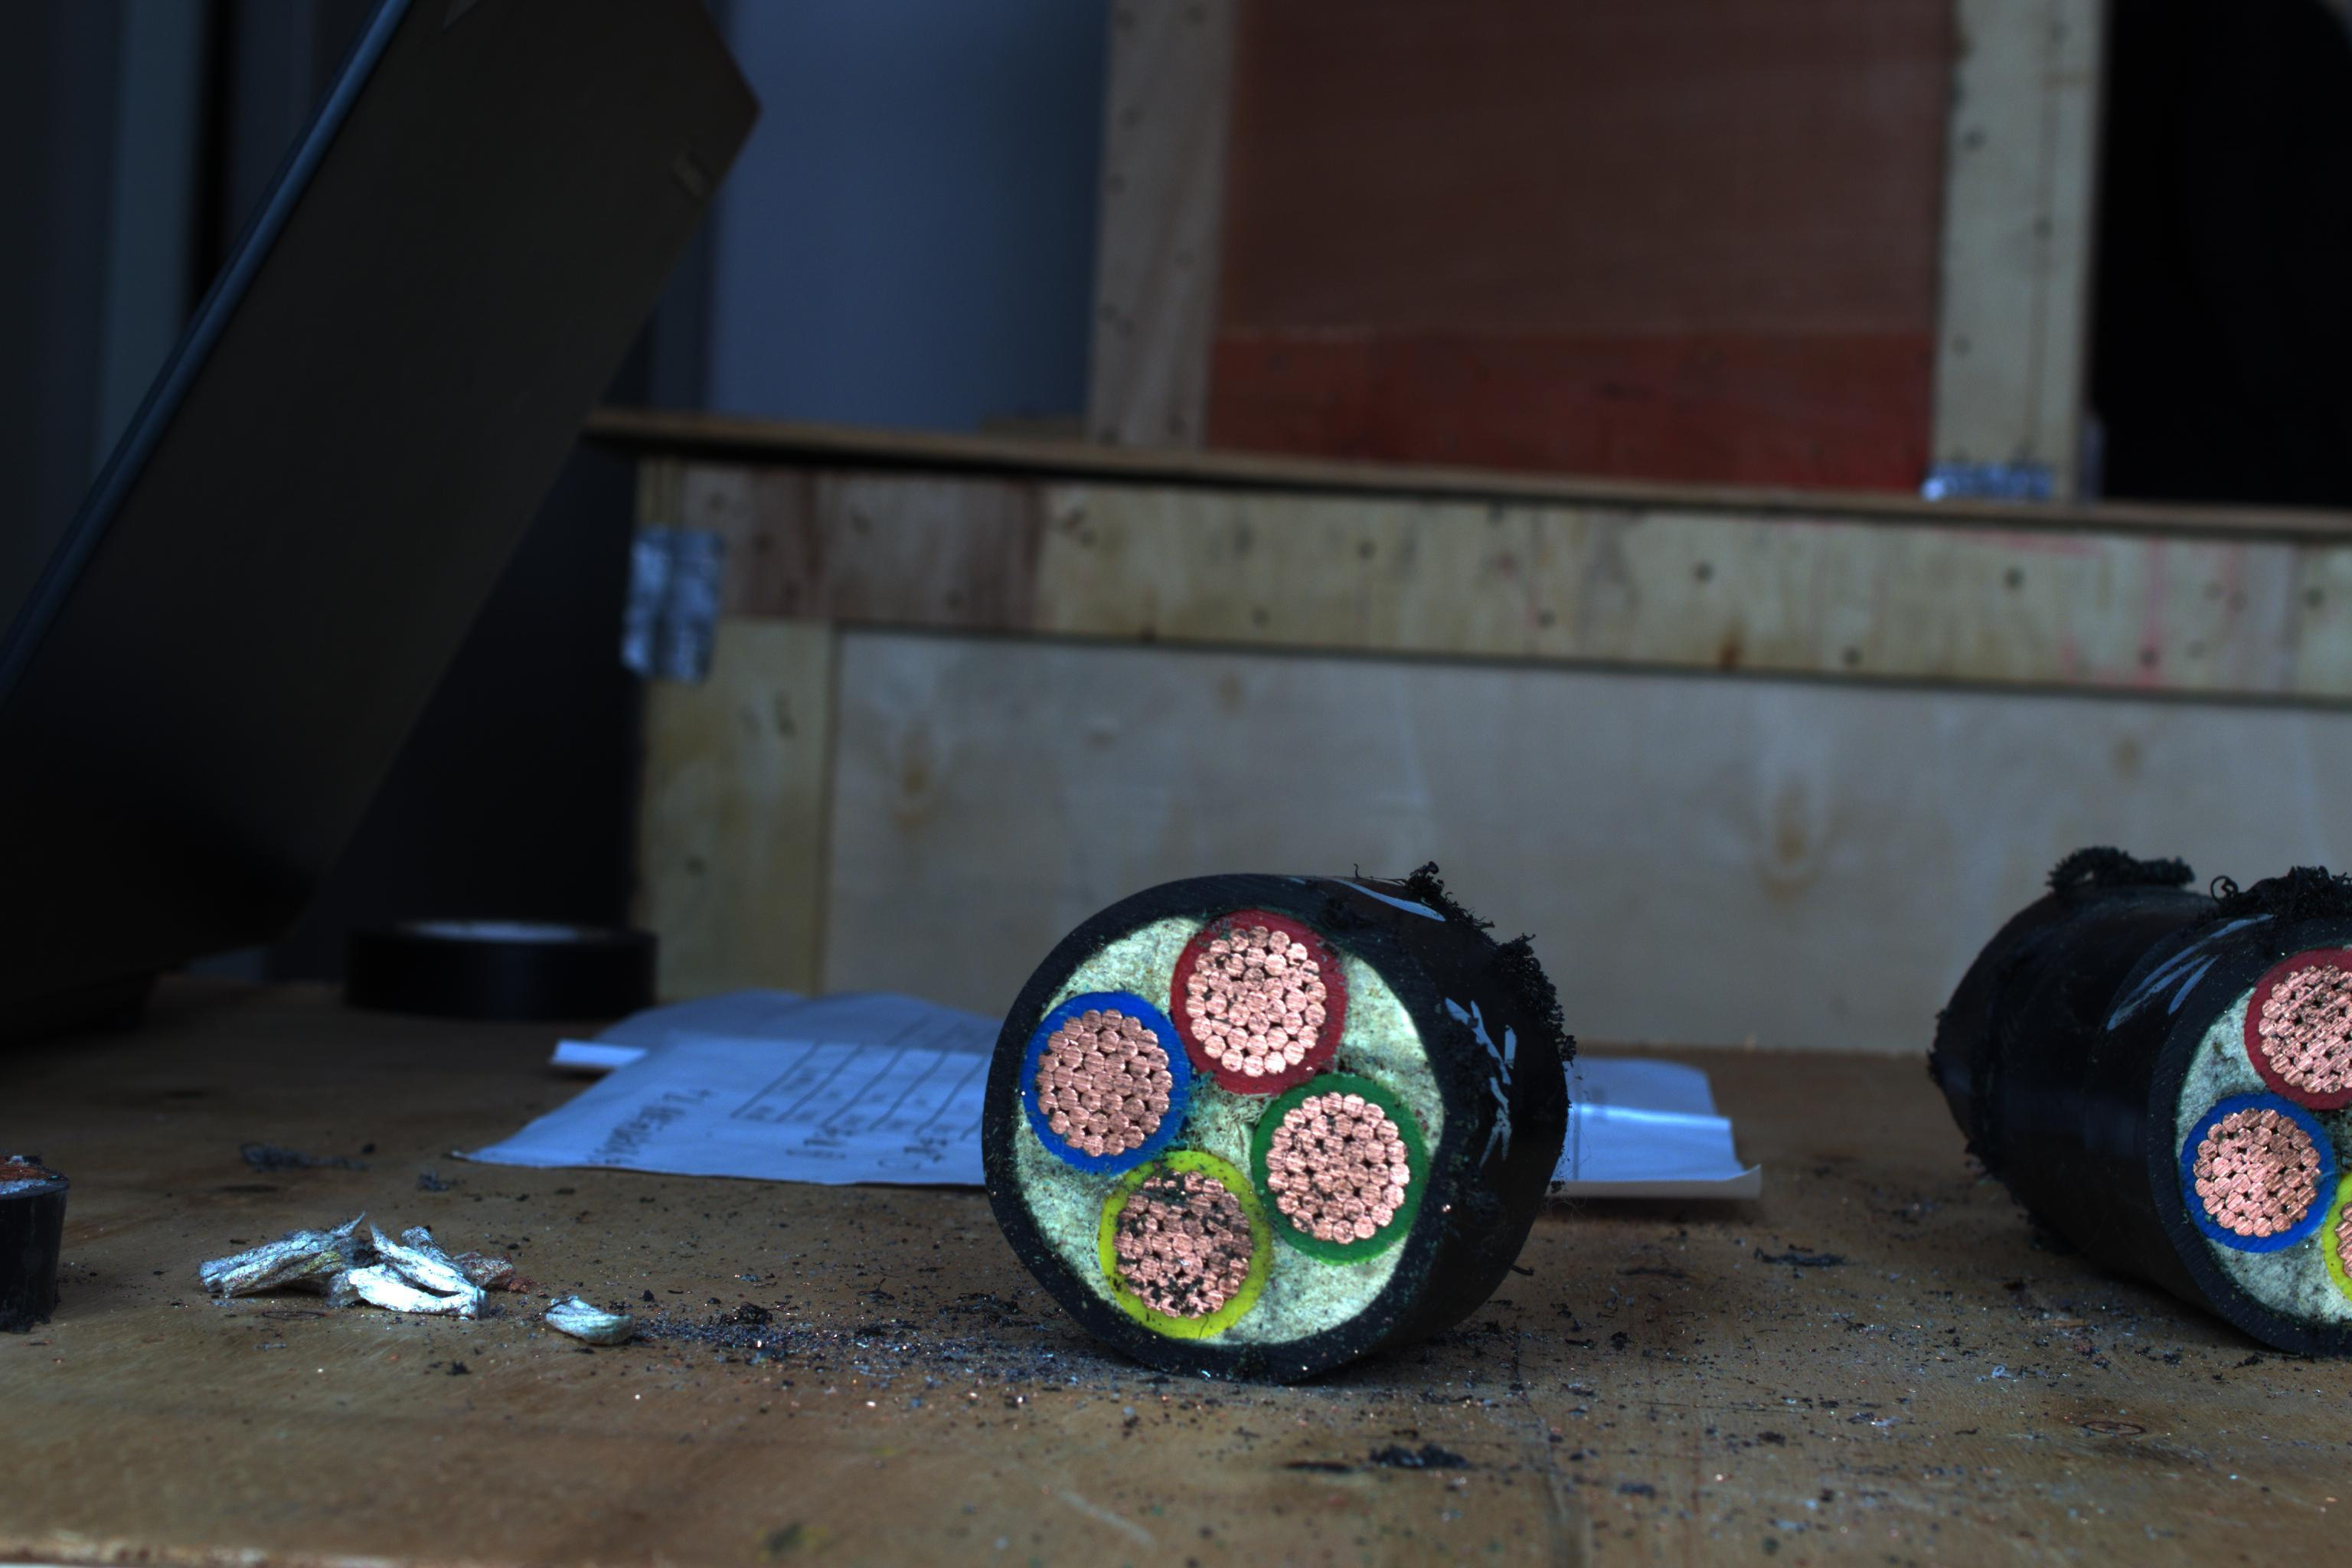YJV_0.6_1kV_4x185: (962, 894, 1473, 1353)
